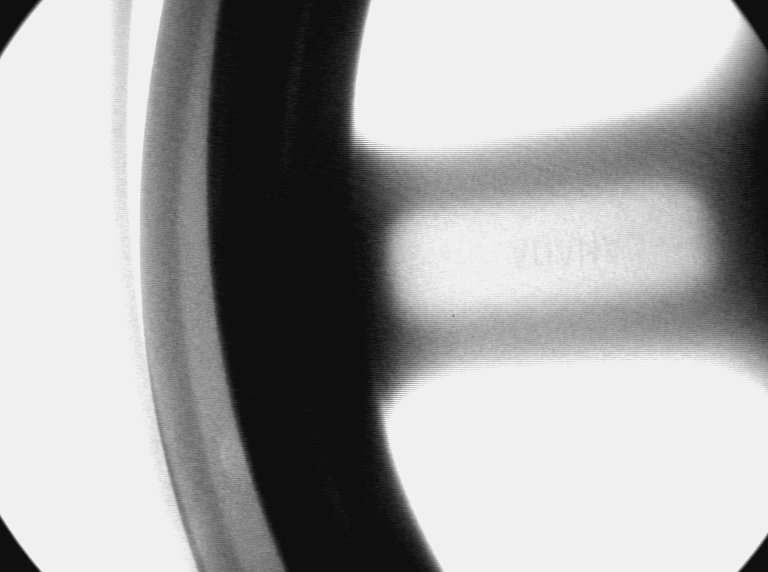defect: (217, 425, 259, 488)
